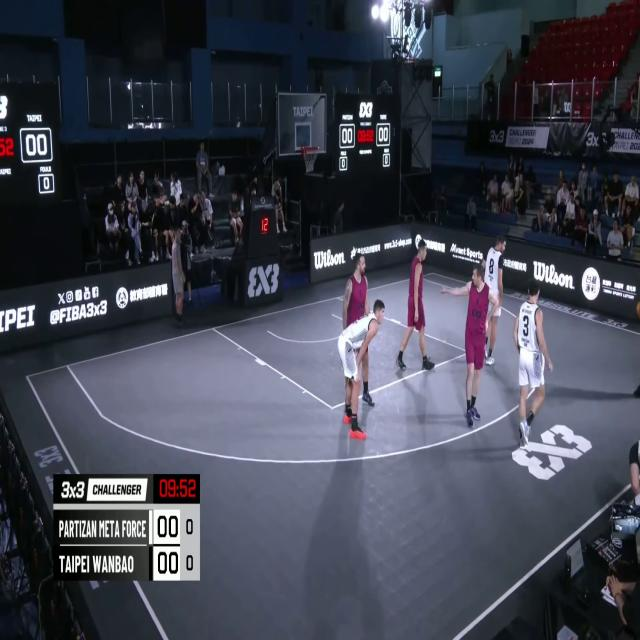hoop: (302, 142, 319, 175)
player: (441, 262, 494, 429), (336, 296, 386, 443), (513, 280, 552, 450), (399, 241, 438, 375), (340, 253, 369, 415), (478, 235, 511, 371)
